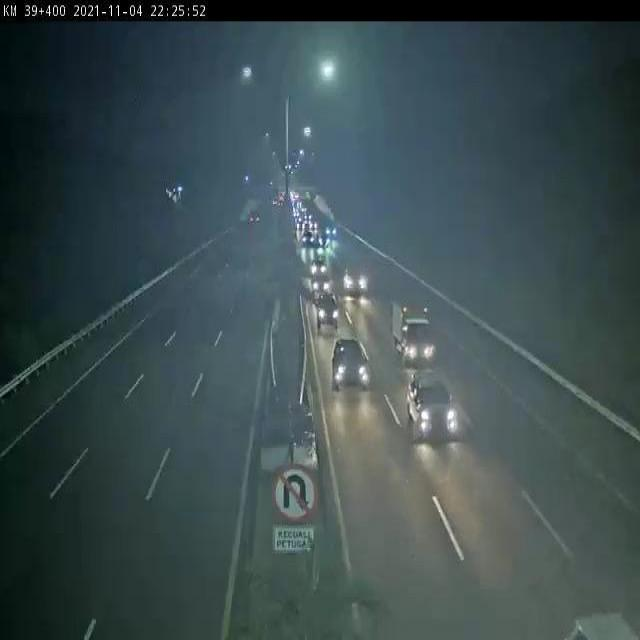car: (399, 374, 463, 454), (325, 332, 379, 403), (341, 252, 372, 300), (314, 295, 342, 329)
truck-s-: (388, 287, 443, 373)
